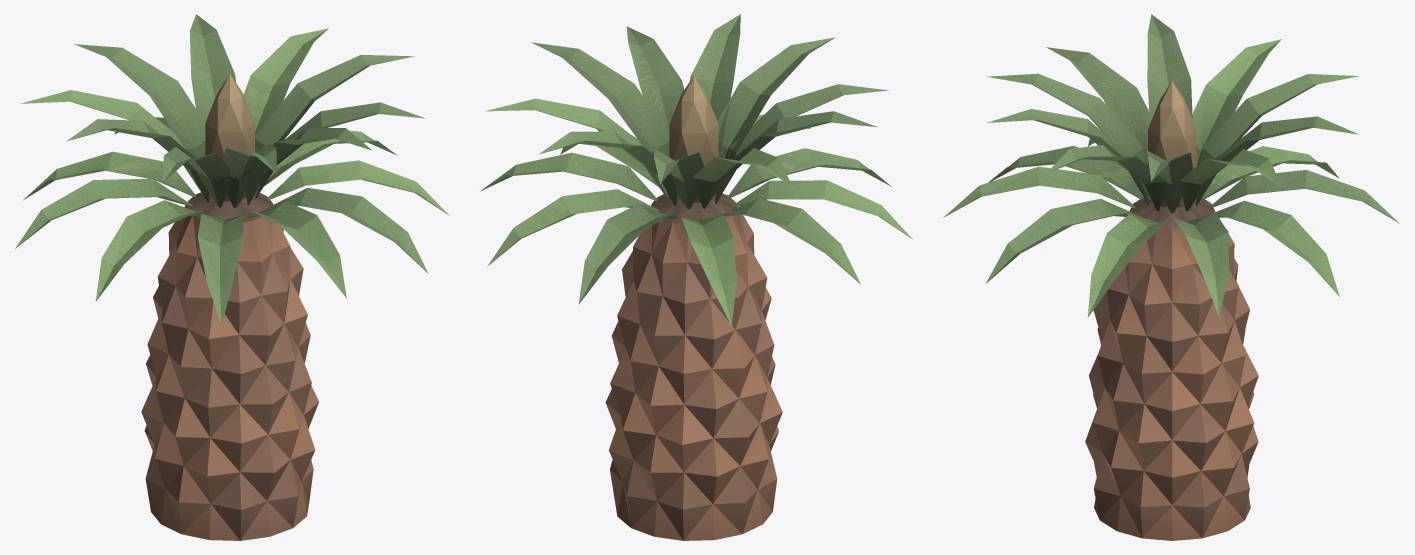
File: cycad.glb
3 renders of one model, left to right at view 1: azimuth 30°, elevation 25°; view 2: azimuth 150°, elevation 25°; view 3: azimuth 270°, elevation 25°, orthographic.
Parts seen in each view (by area): view 1: cycad.001; view 2: cycad.001; view 3: cycad.001.
Boxes of the visible parts, x1,y1,x2,y2 form: cycad.001: (15,14,449,540); cycad.001: (480,14,912,540); cycad.001: (943,14,1399,540).
Bounding box in the file's own units: 3.61 × 3.9 × 3.8.
